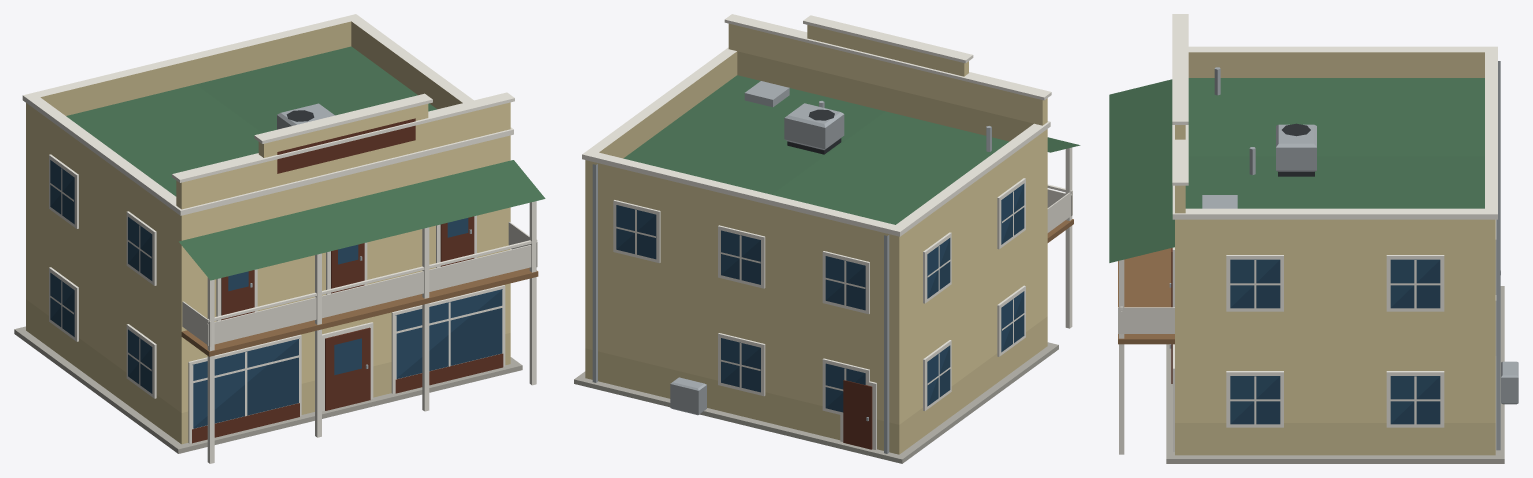
Rendered from shop_11x9_2f.glb.
The picture shows the model from 3 angles, left to right: view 1: azimuth 30°, elevation 25°; view 2: azimuth 150°, elevation 25°; view 3: azimuth 270°, elevation 25°; orthographic projection. The views are drawn at different scales.
Parts seen in each view (by area): view 1: block; view 2: block; view 3: block.
Boxes of the visible parts, x1,y1,x2,y2 form: block: (14,14,545,463); block: (574,14,1080,463); block: (1109,14,1518,463).
Bounding box in the file's own units: 11.5 × 9.25 × 11.5.
